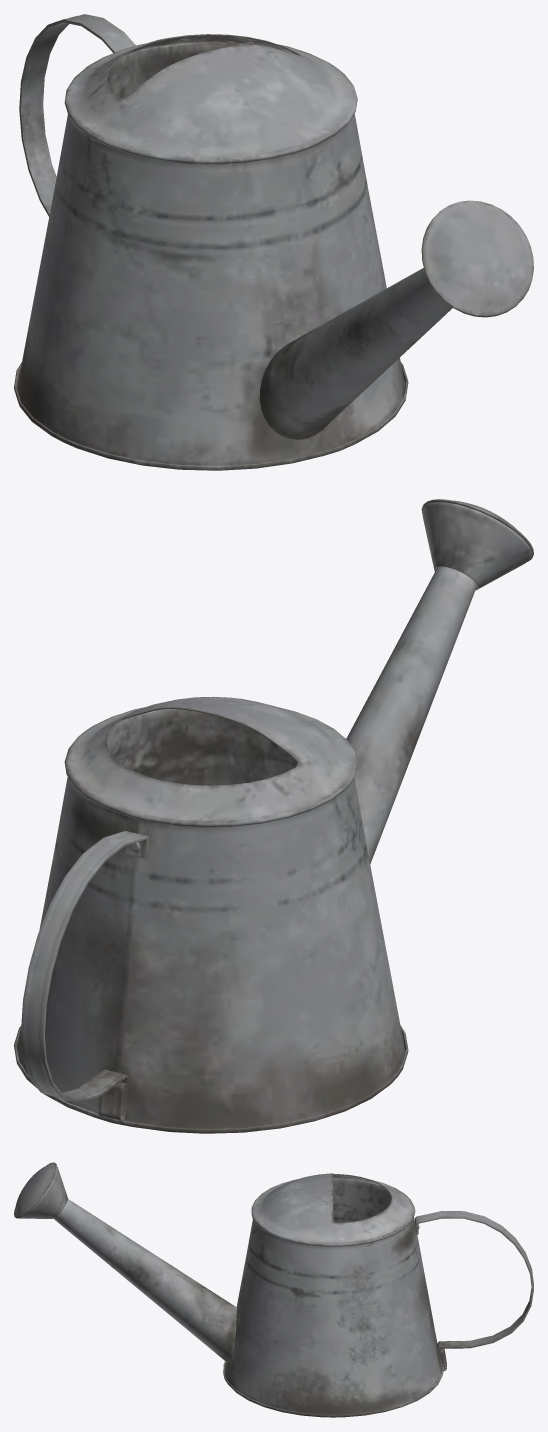
The model's file is watering-can.glb.
3 renders of one model, top to bottom at view 1: azimuth 30°, elevation 25°; view 2: azimuth 150°, elevation 25°; view 3: azimuth 270°, elevation 25°, orthographic. The views are drawn at different scales.
Visible parts, largest first — view 1: watering_can_metal_01; view 2: watering_can_metal_01; view 3: watering_can_metal_01.
Part boxes in pixels (x1,y1,x2,y2): watering_can_metal_01: (14,14,533,470); watering_can_metal_01: (14,499,533,1133); watering_can_metal_01: (14,1162,533,1417).
Size of the model in its own units: 0.191 by 0.1968 by 0.4523.
1 material, 1 textured.
